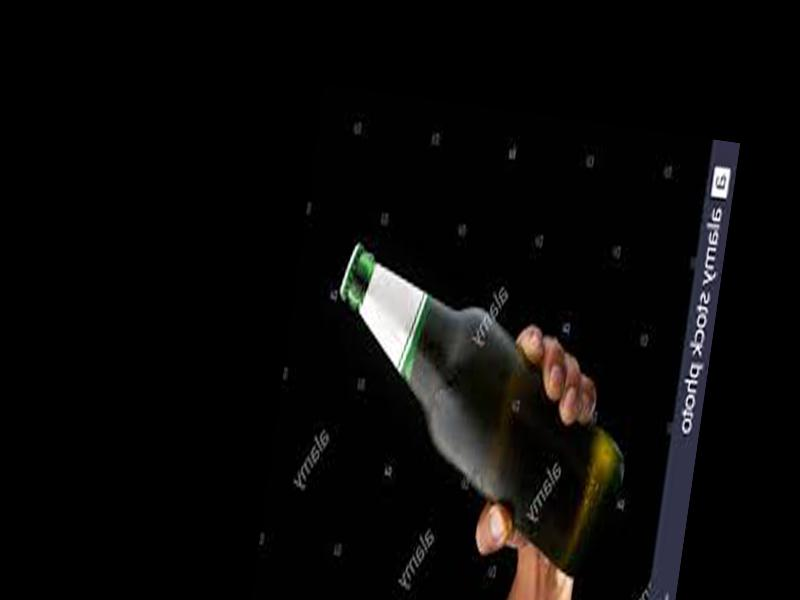Beer: (302, 238, 654, 582)
